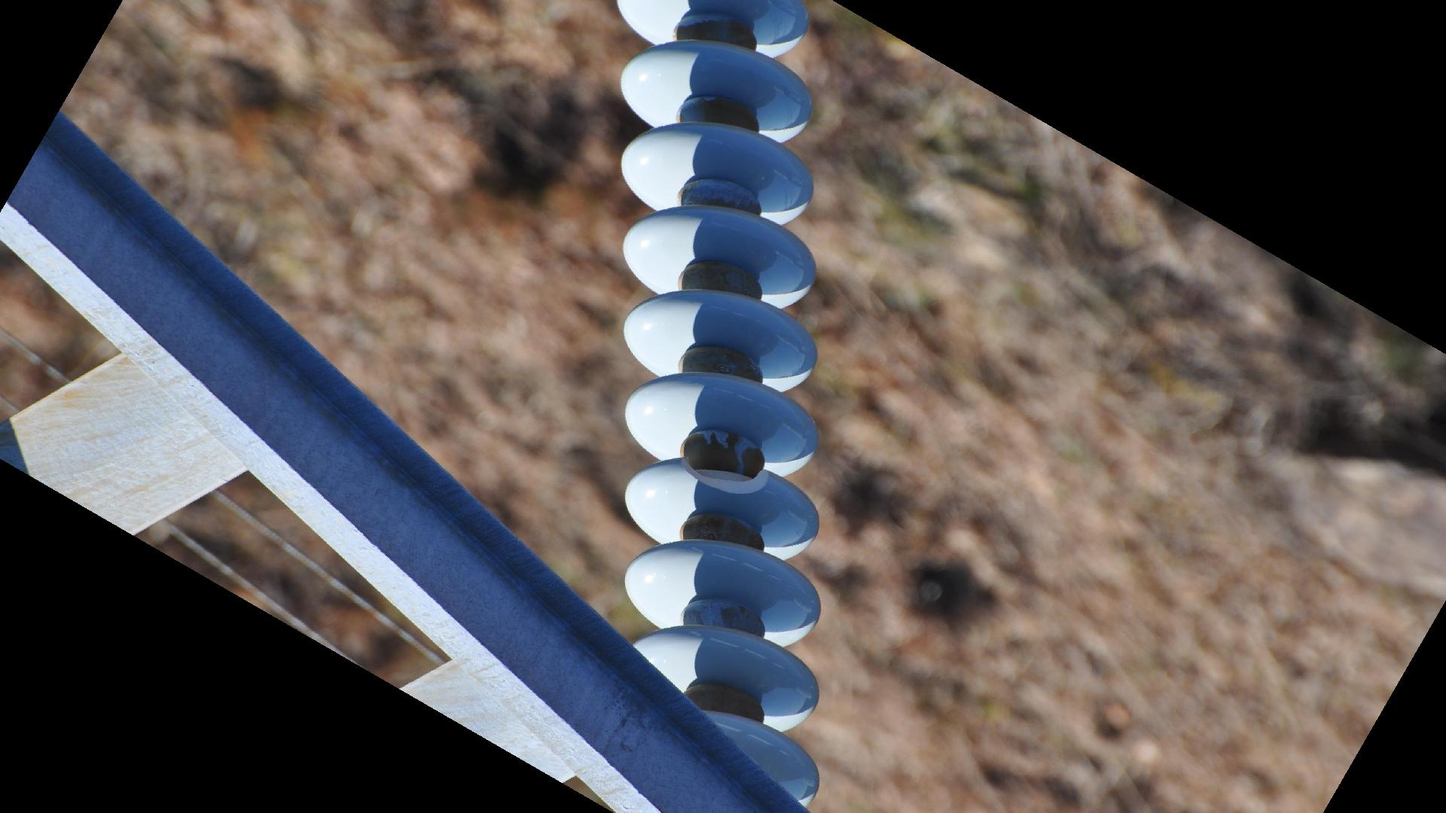insulator: (606, 1, 830, 813)
insulator_breakage: (667, 449, 782, 506)
